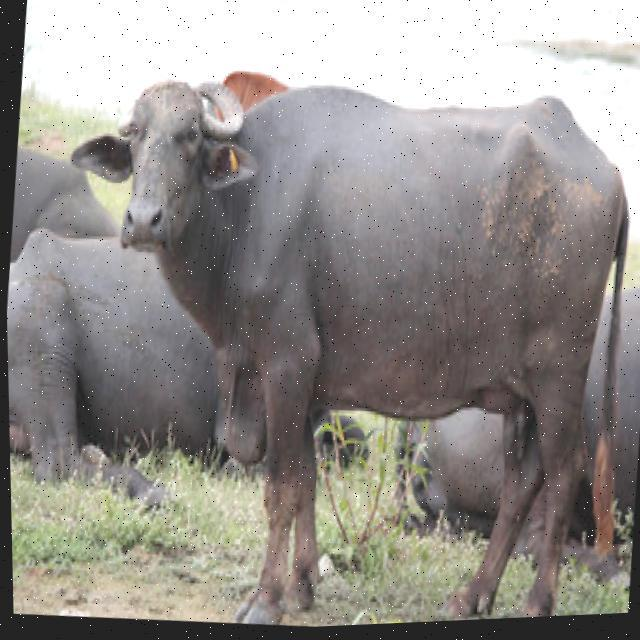Buffalo: (26, 36, 640, 639)
